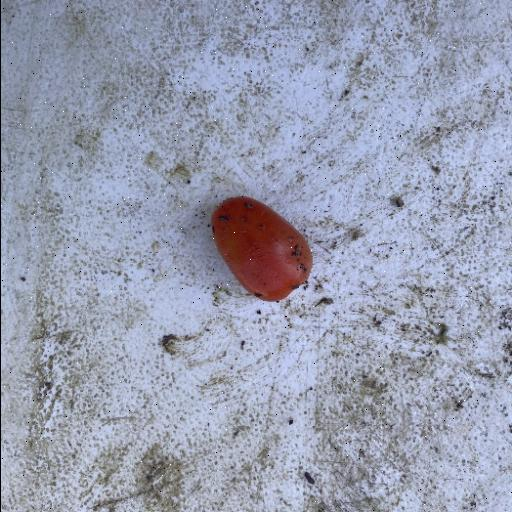Waste: (208, 194, 314, 302)
